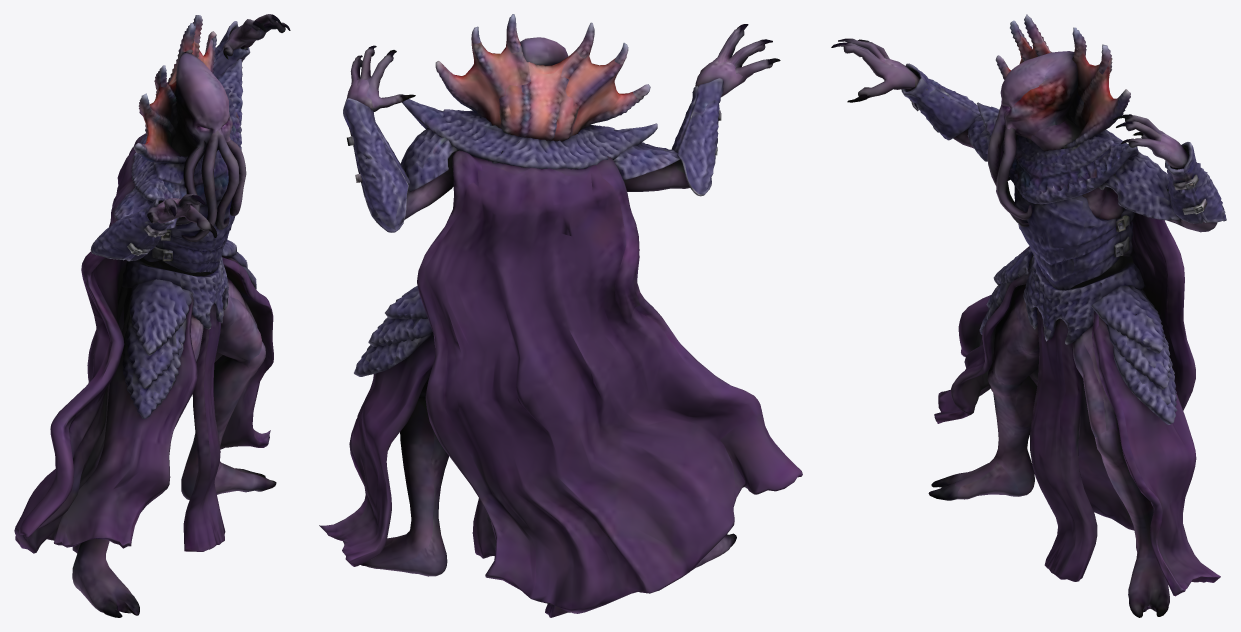
File: MZ4250 - Mindflayer 2025_1.glb
3 views of the same model, side by side, from view 1: azimuth 30°, elevation 25°; view 2: azimuth 150°, elevation 25°; view 3: azimuth 270°, elevation 25° (orthographic). The views are drawn at different scales.
Parts seen in each view (by area): view 1: Body.003; view 2: Body.003; view 3: Body.003.
Boxes of the visible parts, box(x1,y1,x2,y2) form: Body.003: box(14, 14, 290, 617); Body.003: box(319, 14, 802, 617); Body.003: box(831, 14, 1226, 617).
Bounding box in the file's own units: 68.98 × 98.7 × 64.79.
Materials: 3 (3 with a texture image).
